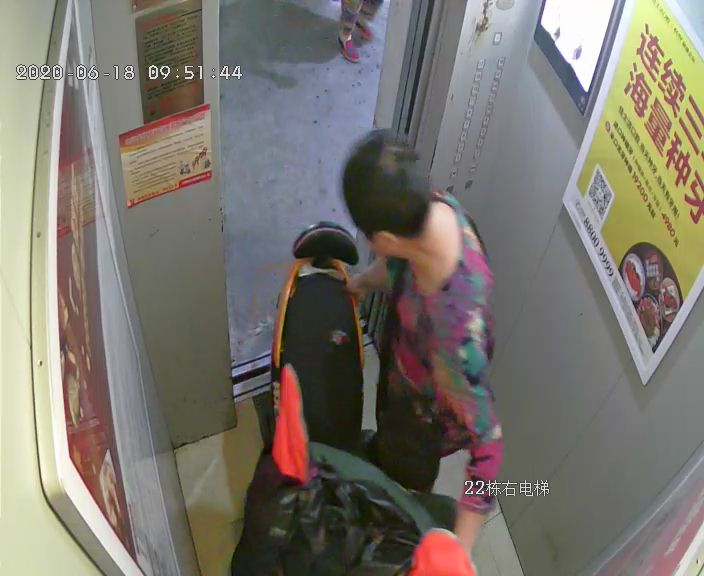Electric-bicycle: (265, 219, 472, 576)
